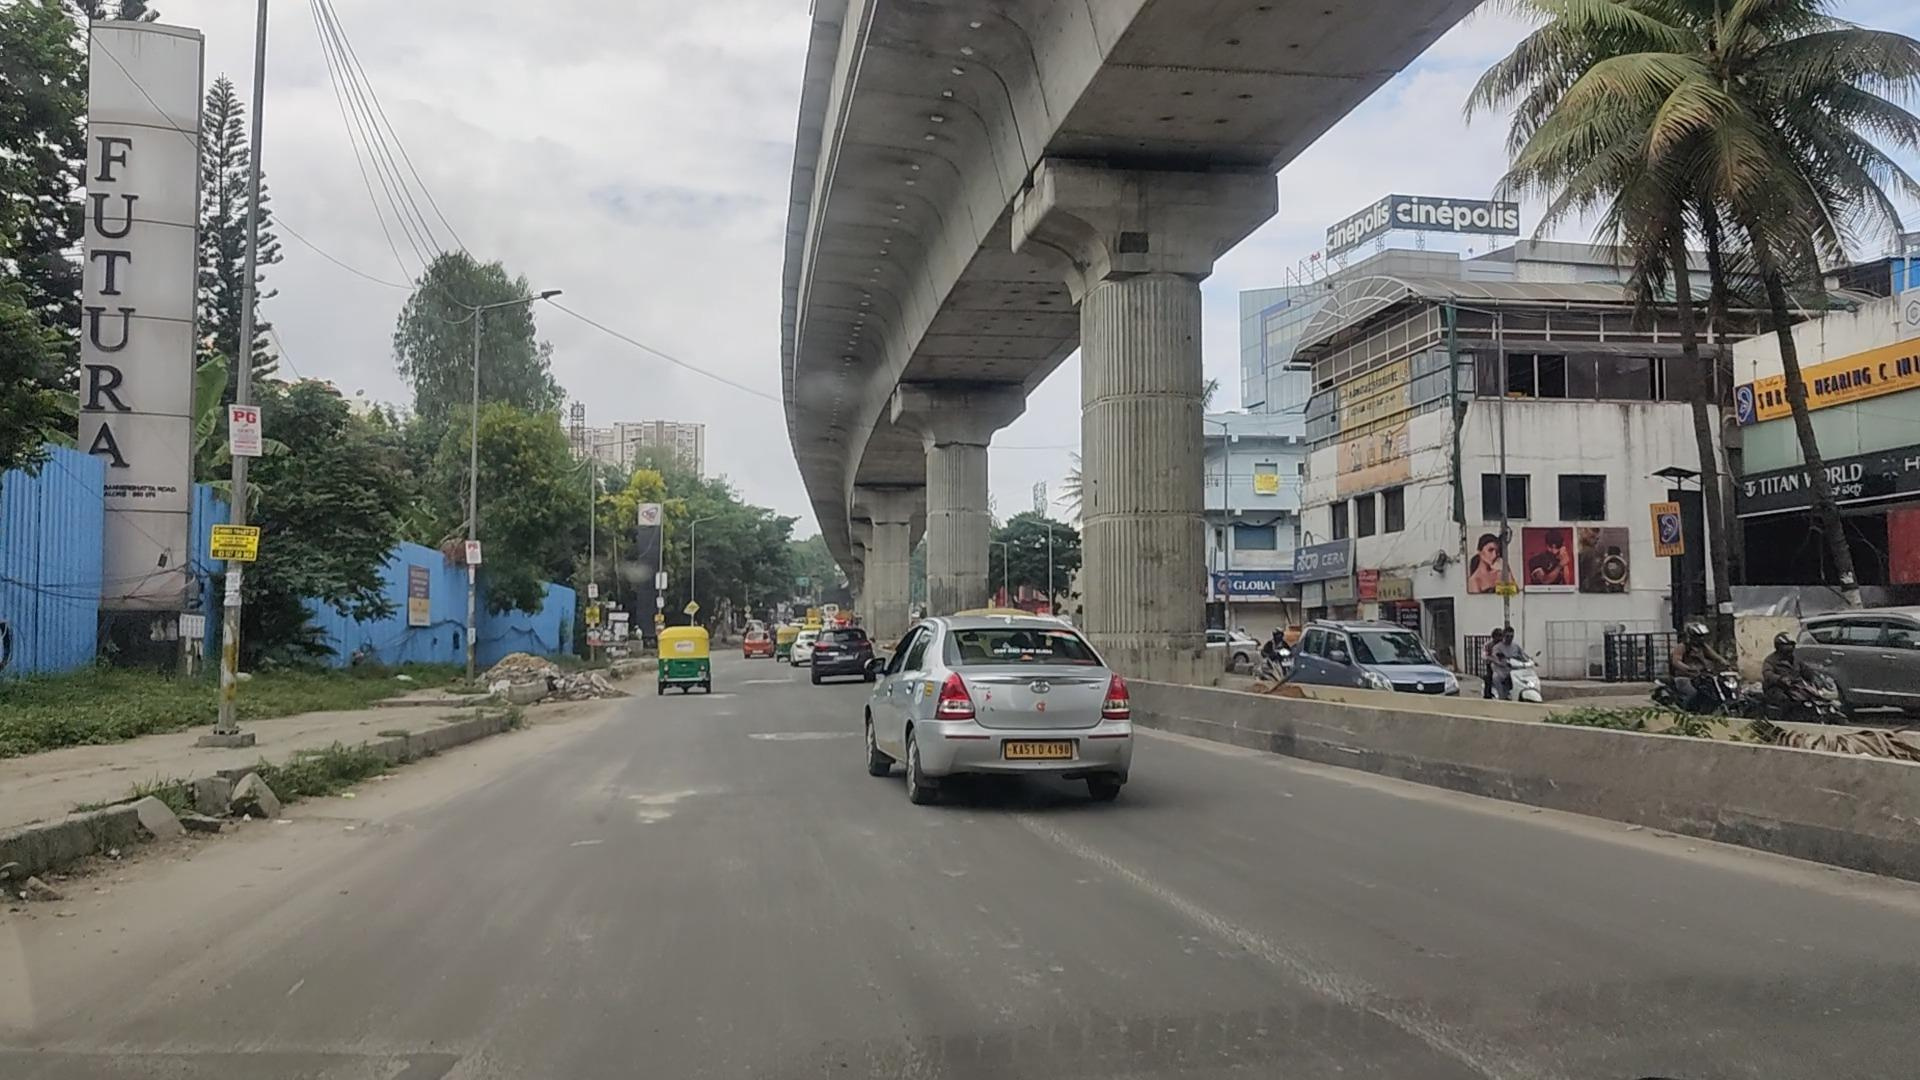LMV: (874, 591, 1192, 814), (661, 626, 725, 695)
RoadDamages: (1307, 949, 1519, 1080), (1170, 882, 1280, 949), (1058, 824, 1159, 877)
UnsurfacedRoad: (41, 947, 534, 1080)
